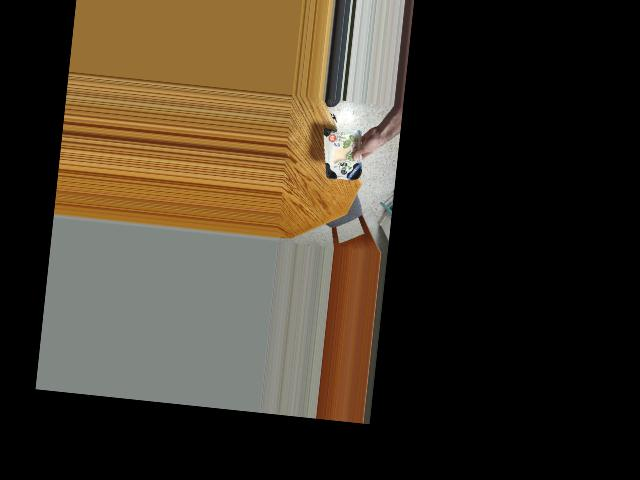cheese: (318, 121, 368, 189)
